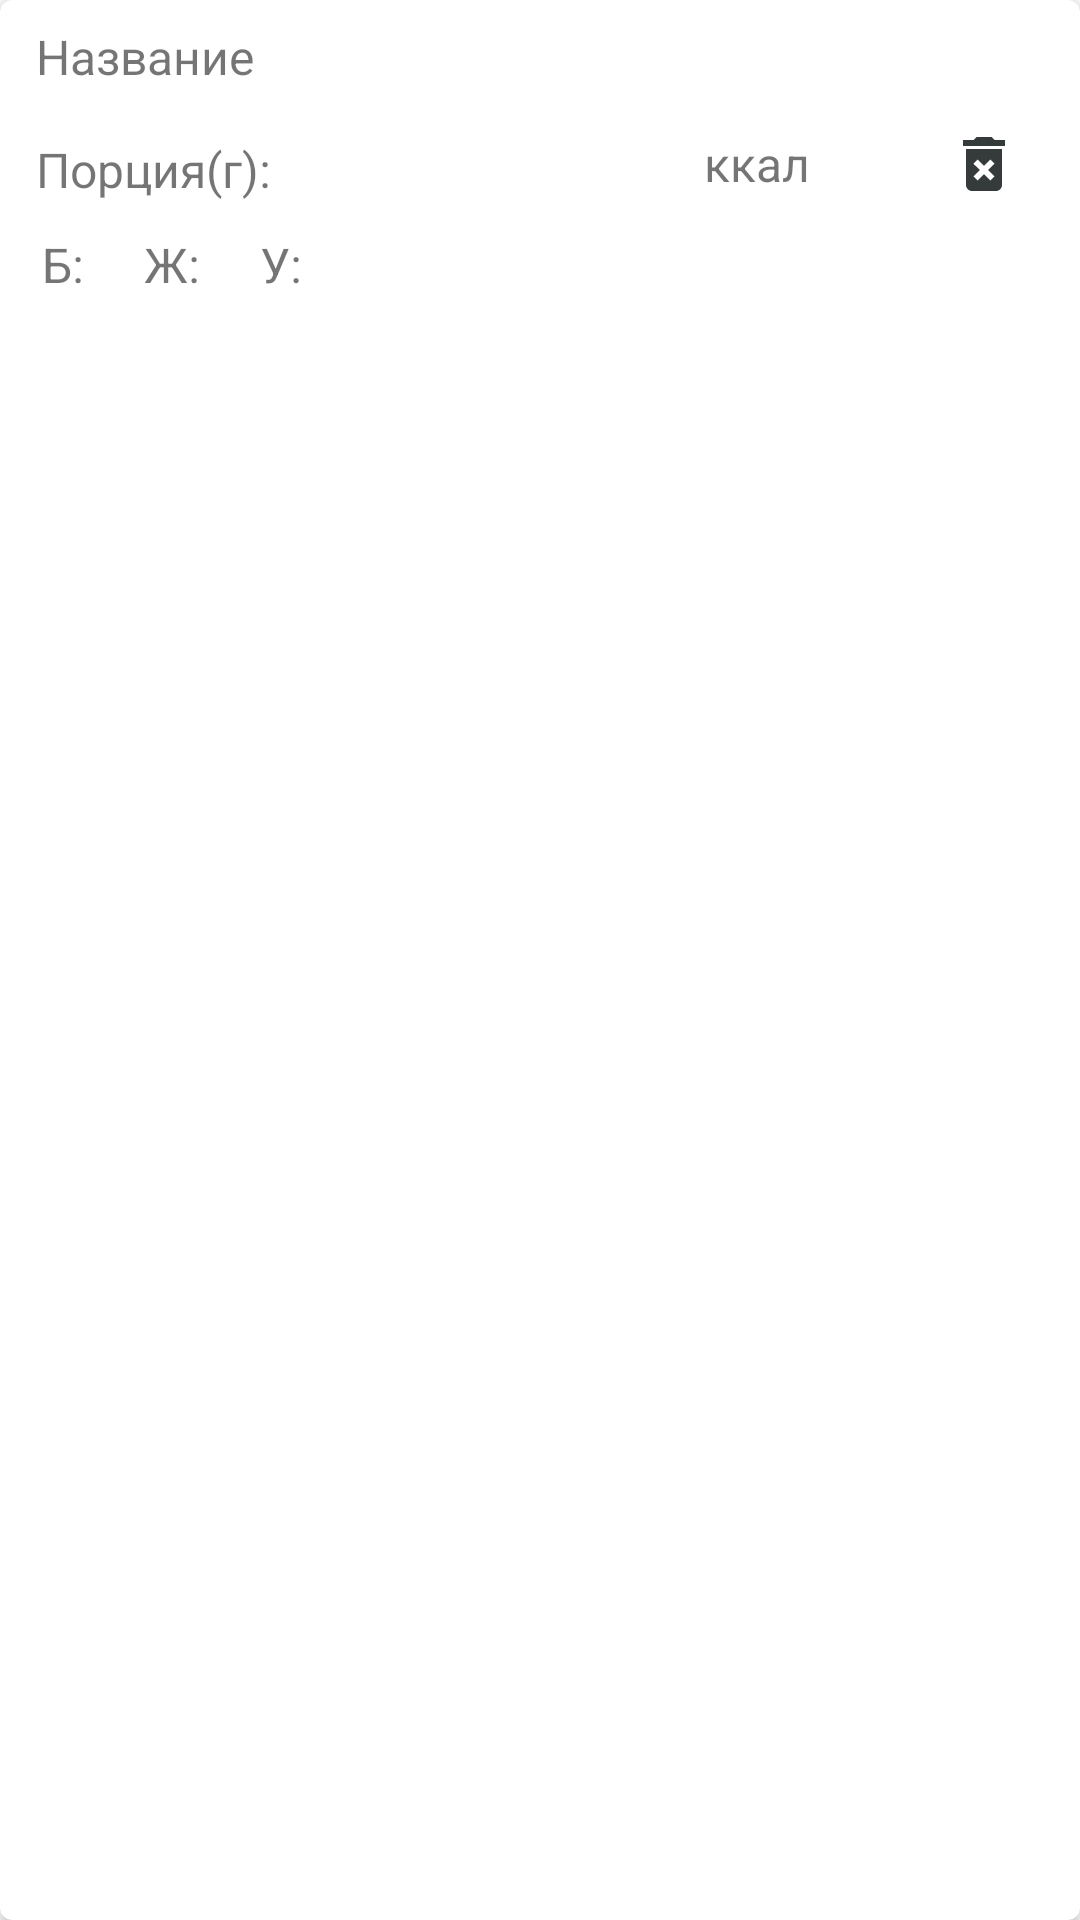

Icon bounding boxes for this 1080 × 1920 phone screenshot, format (x1, y1, x2, y2):
delete: (963, 137, 1005, 191)
